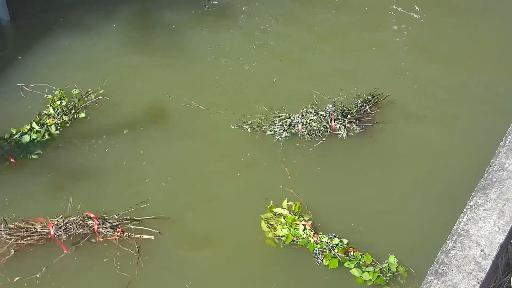twig: (254, 188, 420, 288), (0, 190, 191, 261), (0, 63, 112, 177), (227, 93, 429, 156)
